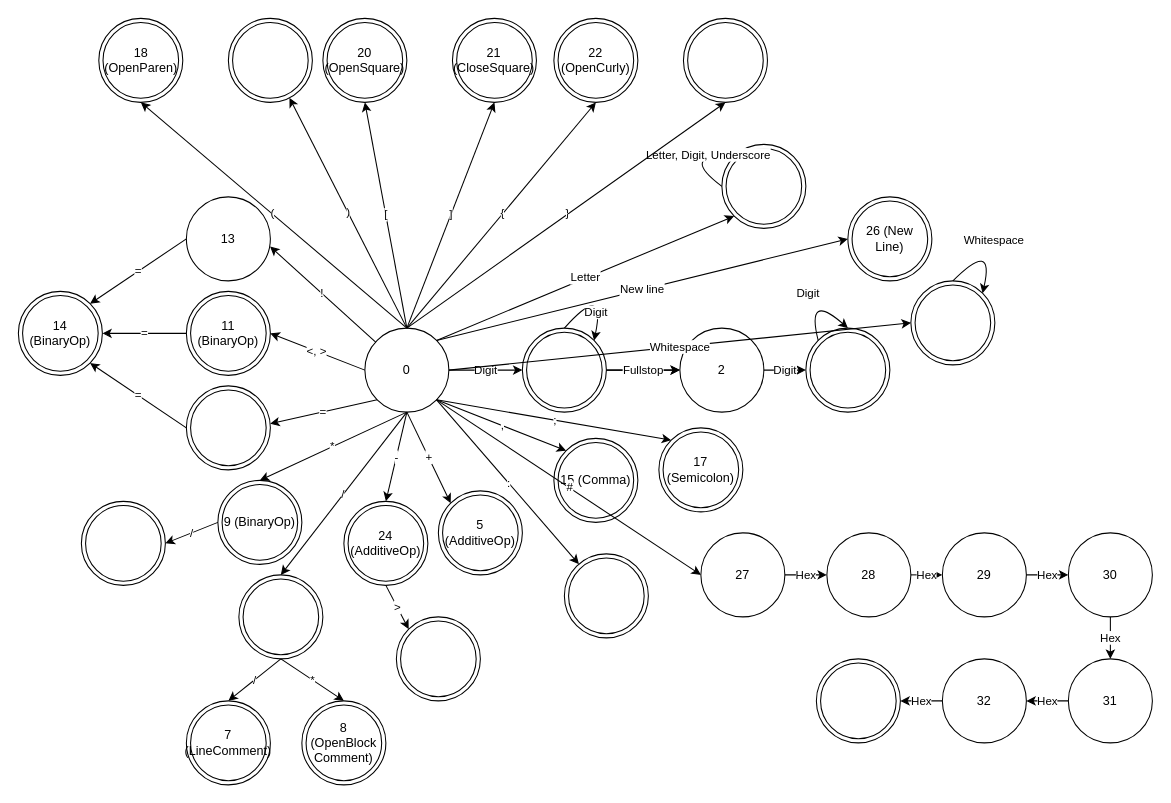
The diagram is 1171 pixels wide and 803 high, and some of its shapes have lost their labels. Each missing label, with the box of its shape:
1 (Integer Literal): (521, 327, 606, 412)
10 (CloseBlock Comment): (80, 500, 165, 585)
12 (Equals): (185, 385, 270, 470)
16 (Colon): (563, 553, 648, 638)
19 (CloseParen): (227, 17, 312, 102)
23 (CloseCurly): (682, 17, 767, 102)
25 (Arrow): (395, 616, 480, 701)
3 (Float Literal): (805, 327, 890, 412)
33 (Colour Literal): (815, 658, 900, 743)
34 (Whitespace): (910, 280, 995, 365)
4 (Idenfitier): (721, 143, 806, 228)
6 (BinaryOp): (238, 574, 323, 659)
